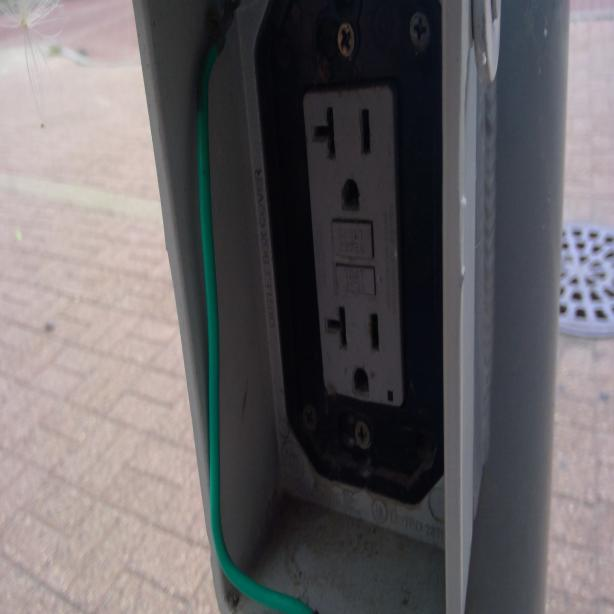typeb: (306, 91, 390, 225), (319, 293, 401, 408)
